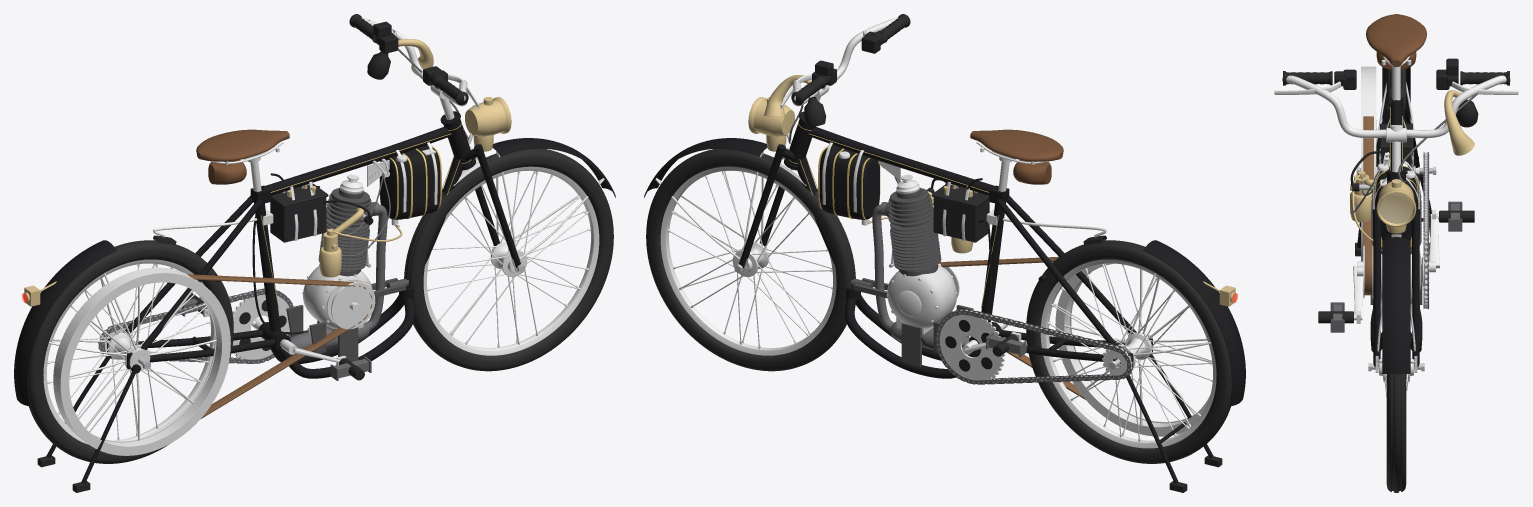
File: bike_pioneer.glb
The picture shows the model from 3 angles, left to right: view 1: azimuth 30°, elevation 25°; view 2: azimuth 150°, elevation 25°; view 3: azimuth 270°, elevation 25°; orthographic projection. The views are drawn at different scales.
Parts seen in each view (by area): view 1: frame_body__frame__tubes, wheels__front_wheel__tyre, transmission__belt_rim, wheels__rear_wheel__tyre, wheels__front_wheel__rim, wheels__front_wheel__spokes, frame_body__rear_mudguard, frame_body__fuel_tank, electrical__coil_box, wheels__rear_wheel__spokes, wheels__rear_wheel__rim, transmission__belt (+20 smaller); view 2: wheels__front_wheel__tyre, frame_body__frame__tubes, wheels__rear_wheel__tyre, wheels__front_wheel__rim, wheels__rear_wheel__rim, frame_body__fuel_tank, transmission__belt_rim, frame_body__rear_mudguard, wheels__front_wheel__spokes, wheels__rear_wheel__spokes, powertrain__engine__crankcase, transmission__chainring (+24 smaller); view 3: frame_body__front_mudguard, wheels__front_wheel__tyre, frame_body__saddle, chassis__handlebar__bar, electrical__carbide_lamp, frame_body__frame__tubes, transmission__belt, transmission__belt_rim, chassis__front_fork__left_blade, chassis__front_fork__right_blade, transmission__pedal_cranks, chassis__handlebar__grips (+18 smaller).
Boxes of the visible parts, <box> form: frame_body__frame__tubes: <box>107,127,462,378</box>; wheels__front_wheel__tyre: <box>404,148,613,371</box>; transmission__belt_rim: <box>53,267,230,455</box>; wheels__rear_wheel__tyre: <box>28,240,233,463</box>; wheels__front_wheel__rim: <box>423,166,599,355</box>; wheels__front_wheel__spokes: <box>429,173,587,344</box>; frame_body__rear_mudguard: <box>14,240,116,406</box>; frame_body__fuel_tank: <box>380,145,440,219</box>; electrical__coil_box: <box>270,183,328,242</box>; wheels__rear_wheel__spokes: <box>48,265,207,437</box>; wheels__rear_wheel__rim: <box>43,259,214,444</box>; transmission__belt: <box>187,274,372,418</box>; wheels__front_wheel__tyre: <box>646,148,855,371</box>; frame_body__frame__tubes: <box>797,127,1152,378</box>; wheels__rear_wheel__tyre: <box>1026,240,1231,463</box>; wheels__front_wheel__rim: <box>660,166,836,355</box>; wheels__rear_wheel__rim: <box>1040,259,1216,448</box>; frame_body__fuel_tank: <box>819,145,879,219</box>; transmission__belt_rim: <box>1055,263,1210,436</box>; frame_body__rear_mudguard: <box>1143,240,1245,406</box>; wheels__front_wheel__spokes: <box>670,173,831,345</box>; wheels__rear_wheel__spokes: <box>1049,266,1211,438</box>; powertrain__engine__crankcase: <box>887,264,956,334</box>; transmission__chainring: <box>939,310,1005,380</box>; frame_body__front_mudguard: <box>1382,237,1410,374</box>; wheels__front_wheel__tyre: <box>1386,374,1406,492</box>; frame_body__saddle: <box>1366,14,1426,66</box>; chassis__handlebar__bar: <box>1282,75,1510,138</box>; electrical__carbide_lamp: <box>1376,179,1416,226</box>; frame_body__frame__tubes: <box>1370,97,1422,351</box>; transmission__belt: <box>1363,116,1373,295</box>; transmission__belt_rim: <box>1361,66,1376,261</box>; chassis__front_fork__left_blade: <box>1372,209,1381,367</box>; chassis__front_fork__right_blade: <box>1411,209,1420,367</box>; transmission__pedal_cranks: <box>1353,210,1439,323</box>; chassis__handlebar__grips: <box>1283,71,1509,85</box>.
Size of the model in its own units: 188 by 105 by 63.18.
